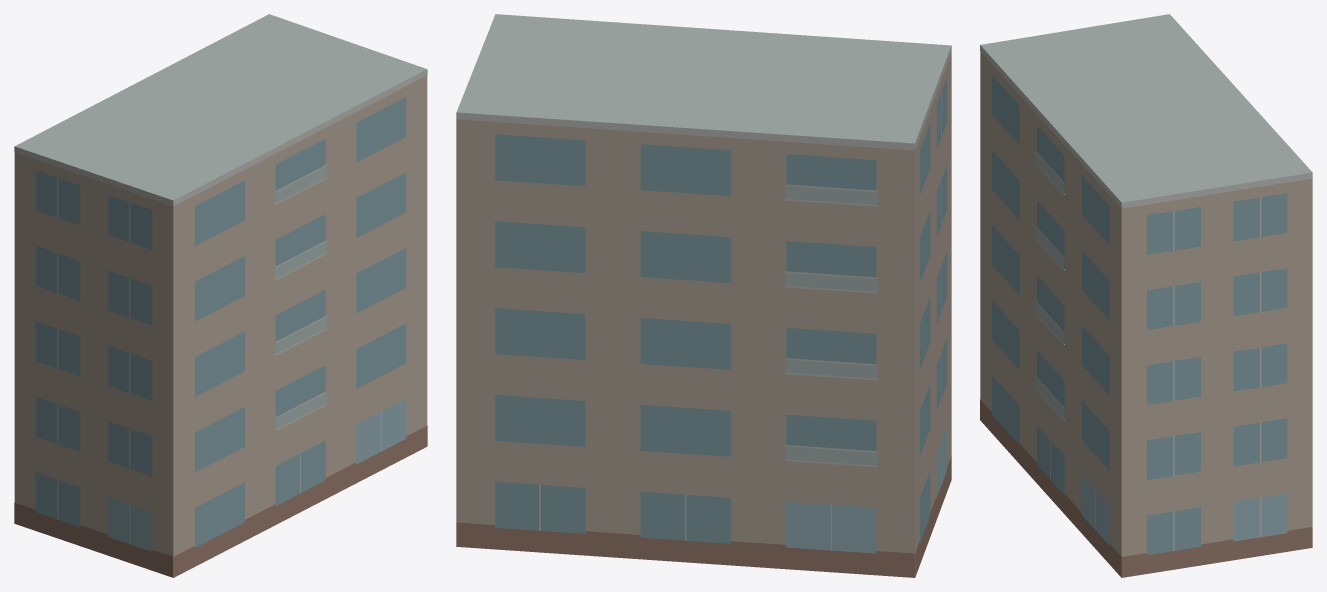
The model's file is survey-upis-32959077.glb.
3 renders of one model, left to right at view 1: azimuth 30°, elevation 25°; view 2: azimuth 150°, elevation 25°; view 3: azimuth 270°, elevation 25°, orthographic. The views are drawn at different scales.
Parts seen in each view (by area): view 1: survey-upis-32959077.tmp; view 2: survey-upis-32959077.tmp; view 3: survey-upis-32959077.tmp.
Part boxes in pixels (left/top/right/bottom): survey-upis-32959077.tmp: left=14, top=14, right=427, bottom=577; survey-upis-32959077.tmp: left=456, top=14, right=951, bottom=577; survey-upis-32959077.tmp: left=980, top=14, right=1312, bottom=577.
Size of the model in its own units: 16.45 by 15.25 by 12.26.
